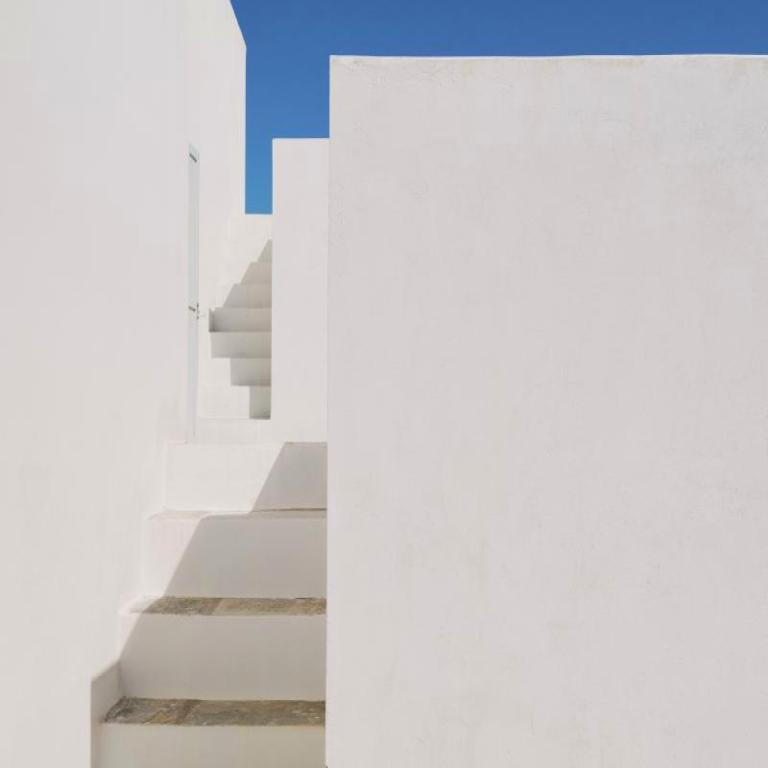white-walls: (350, 95, 747, 709)
